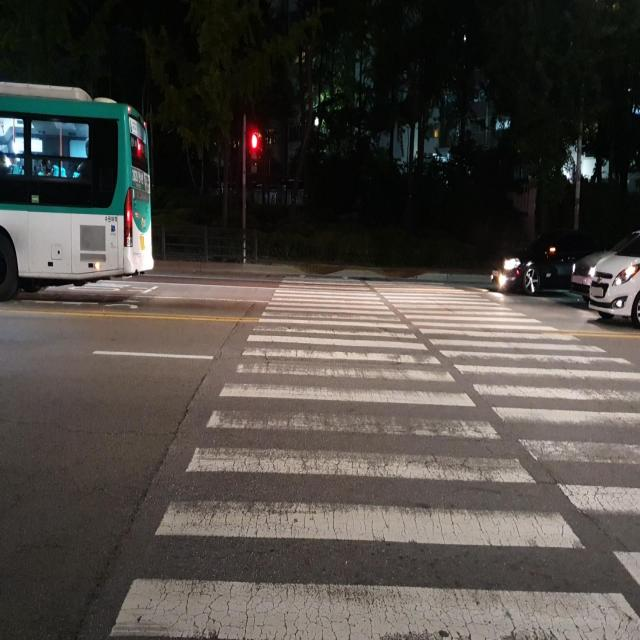빨간불: (248, 127, 261, 184)
횡단보도: (106, 270, 640, 640)
